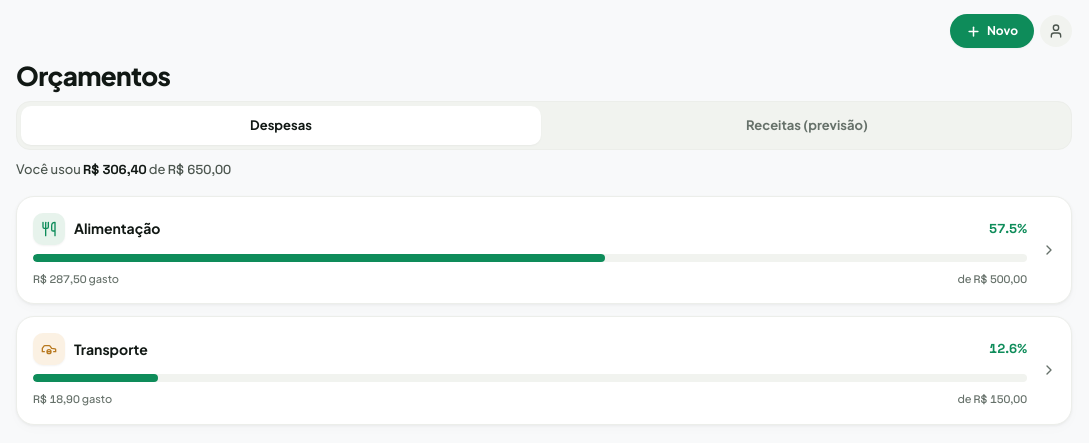
Scenario: BudgetsPage › with data › switches to Receitas tab
Click the button "Receitas (previsão)" at coordinates (807, 125), box [547,106,1067,145]
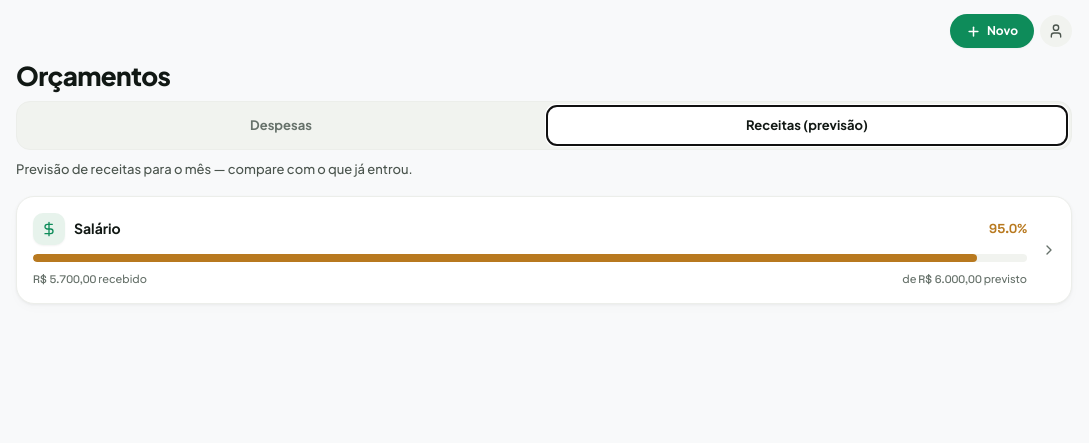
Expected: the text "Salário" is shown, [74,218,121,239]
